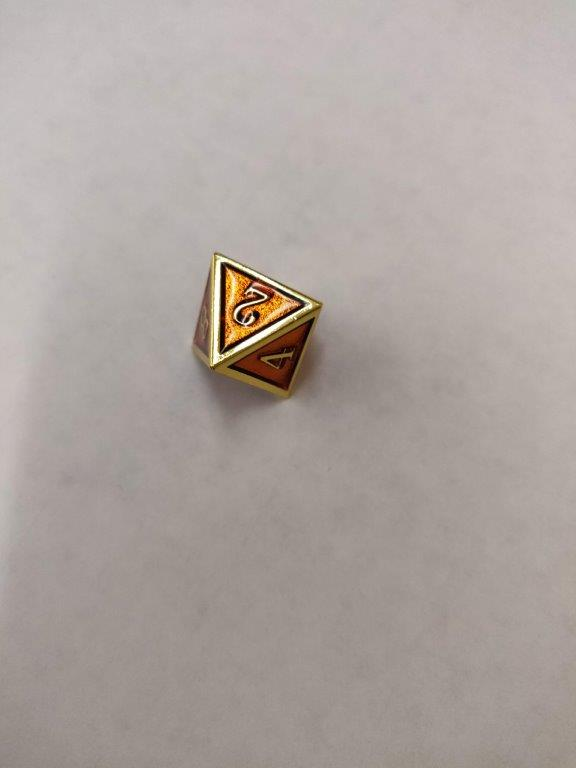d8-2: (189, 250, 322, 401)
